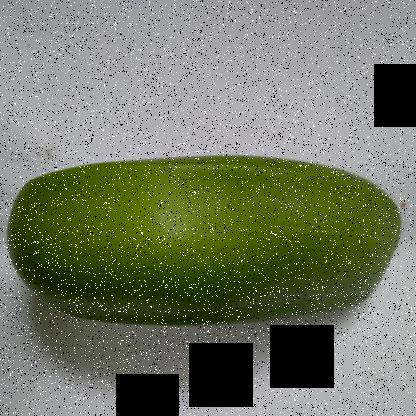freshunripe: (1, 145, 410, 349)
